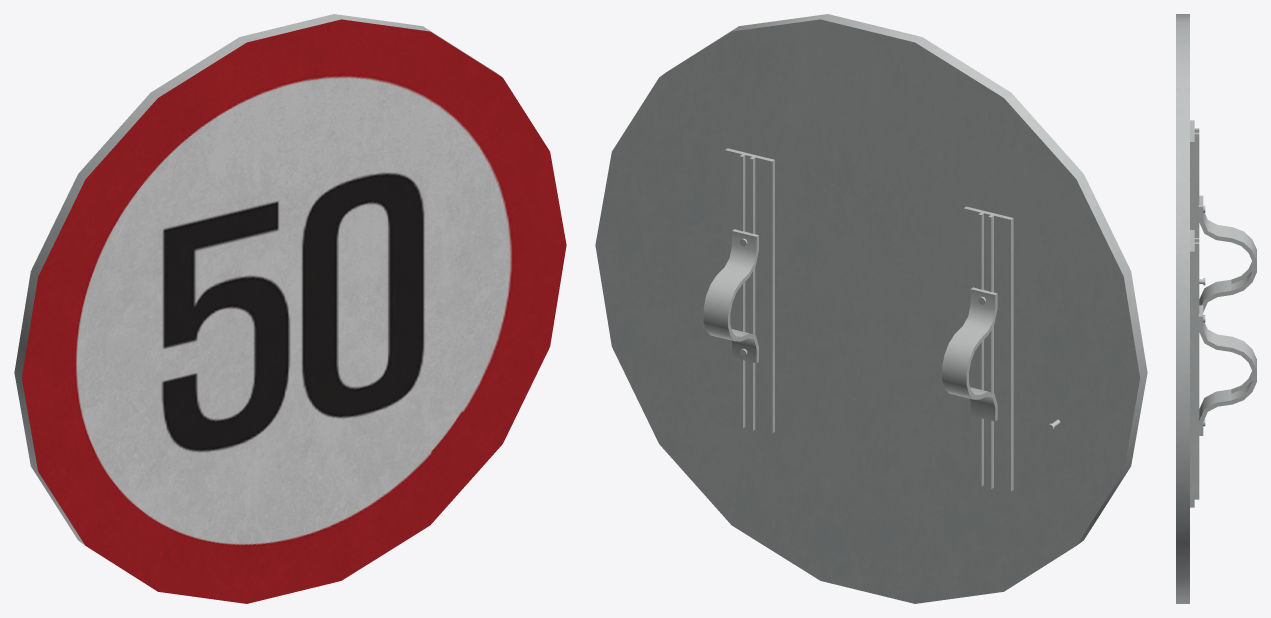
The model's file is Sign_50_01.fbx.
3 renders of one model, left to right at view 1: azimuth 30°, elevation 25°; view 2: azimuth 150°, elevation 25°; view 3: azimuth 270°, elevation 25°, orthographic. The views are drawn at different scales.
Parts seen in each view (by area): view 1: Sign_50_01; view 2: Sign_50_01; view 3: Sign_50_01.
Part boxes in pixels (box(x1,y1,x2,y2)): Sign_50_01: box(14, 14, 566, 603); Sign_50_01: box(595, 14, 1147, 603); Sign_50_01: box(1176, 14, 1256, 603).
Bounding box in the file's own units: 64.69 × 63.71 × 8.85.
2 materials, 2 textured.
